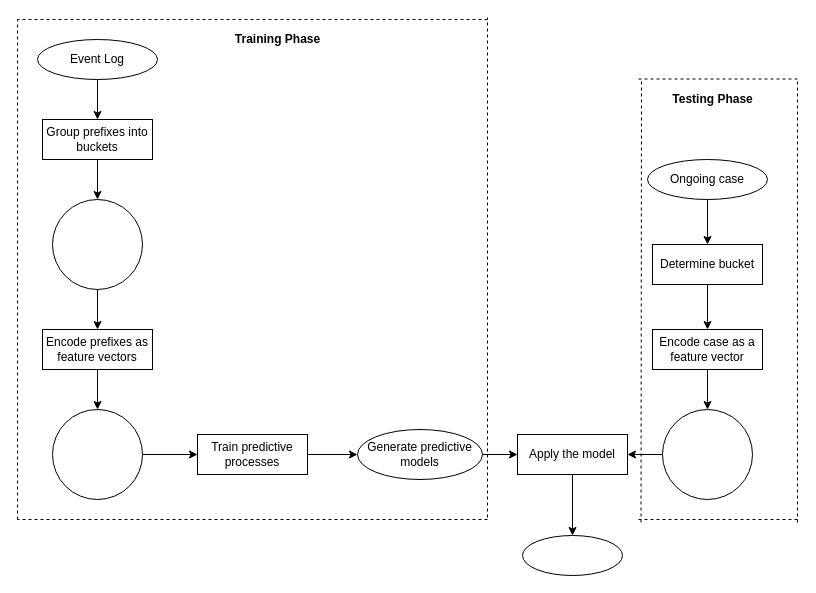
Image size: 816x593. Some labels were removed from this diagram. Each missing label, with the centre of its shape:
Buckets of feature vectors: (x=97, y=454)
Buckets of historical prefixes: (x=97, y=244)
Ongoing feature vector: (x=707, y=454)
Prediction result: (x=572, y=555)
